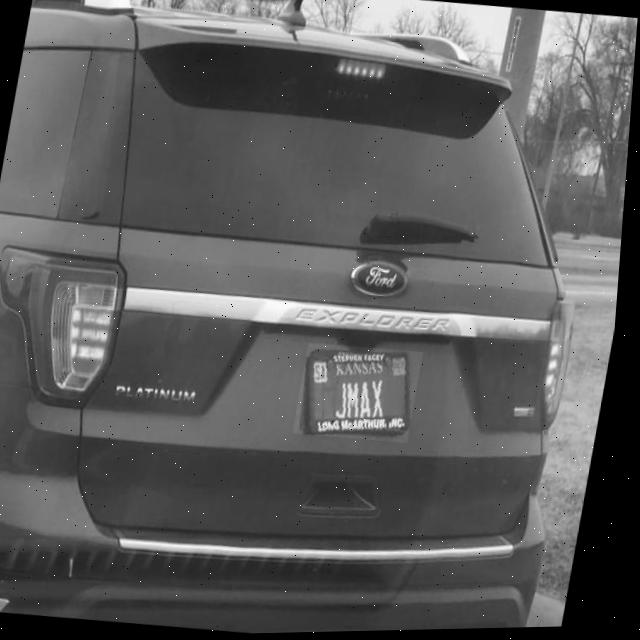LicensePlate: (312, 353, 417, 436)
